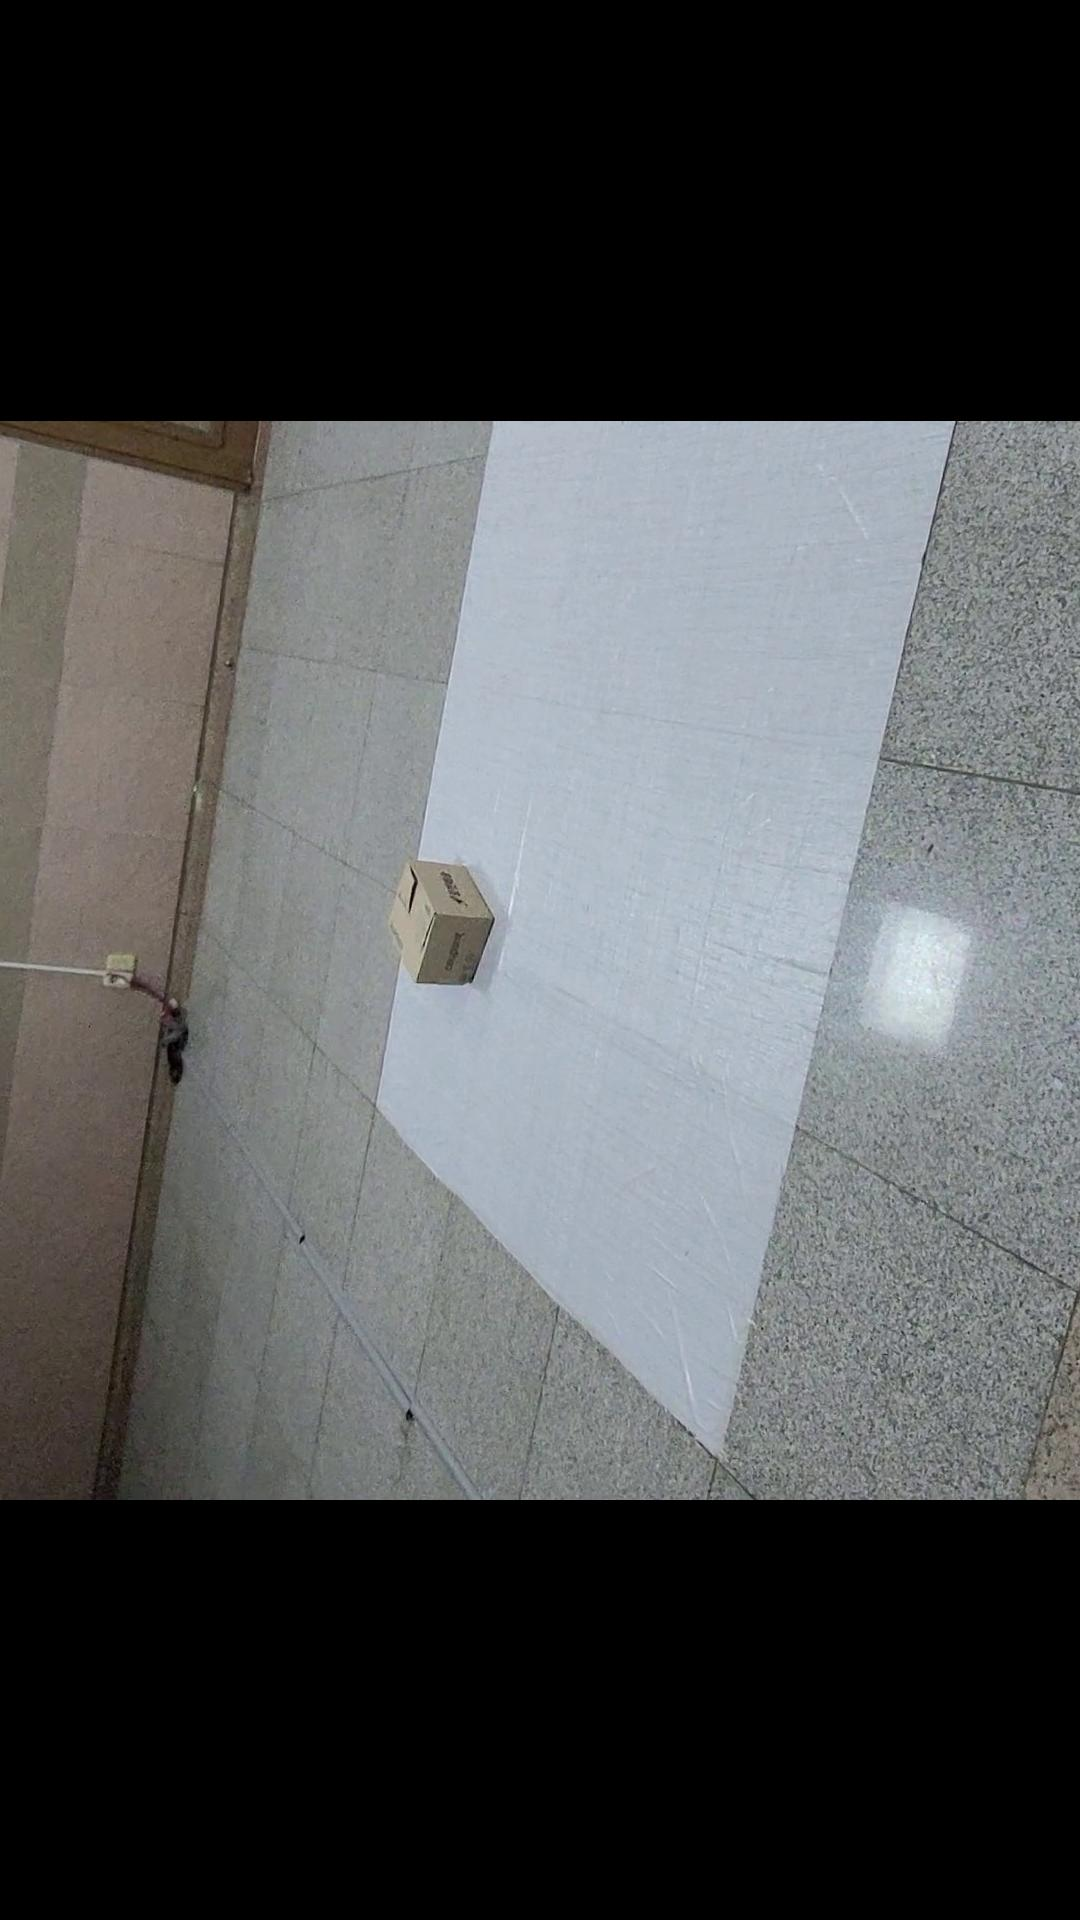Box: (363, 835, 524, 1029)
